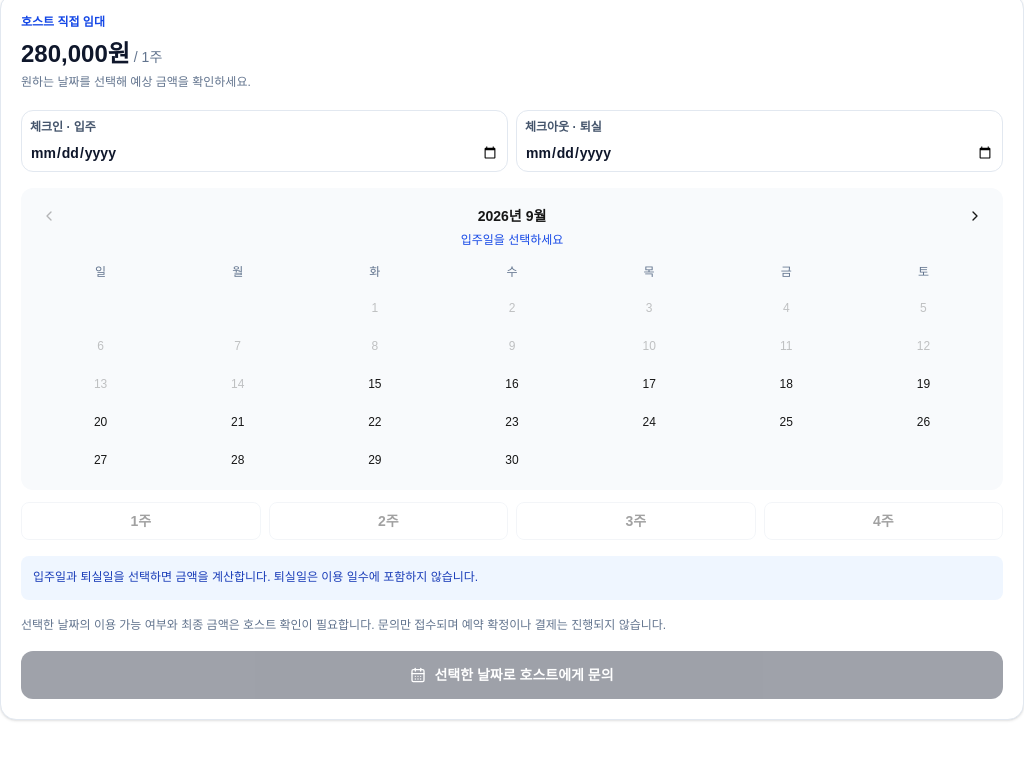
Test: host quote › never mounts a sending inquiry in preview
The image size is (1024, 761).
In the date field labelled "체크인 · 입주": point(264, 153) [30,143,499,163], type "2026-09-20"
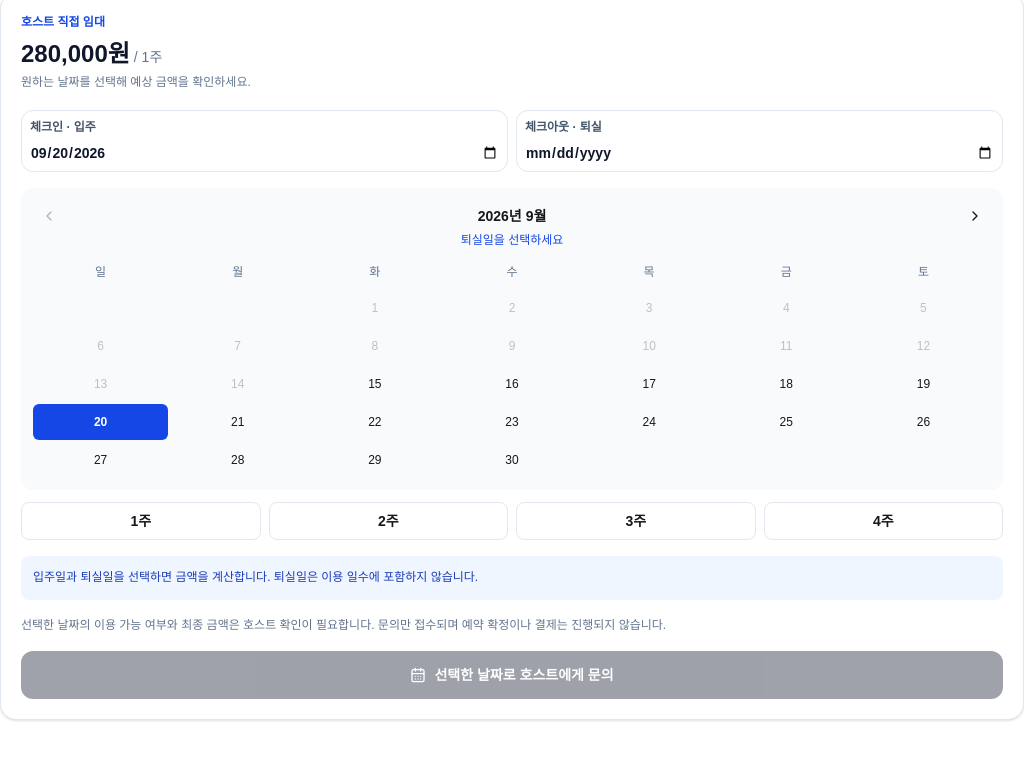
Click the button "1주": point(141, 521) [21,502,260,540]
(page scrolled)
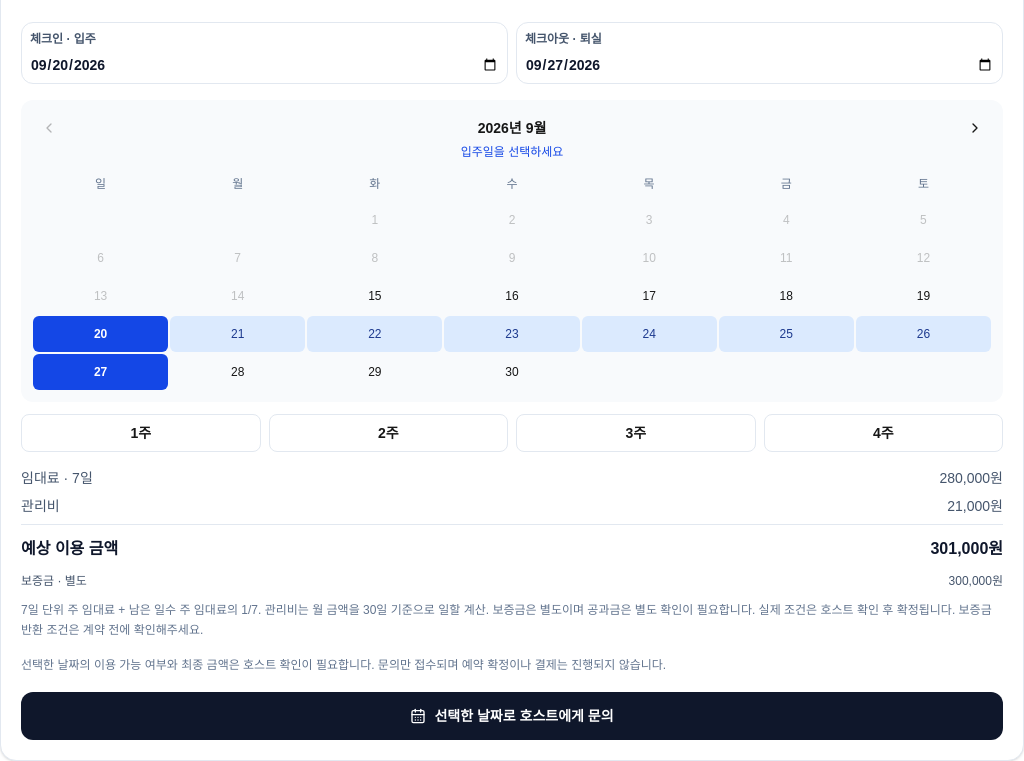
Click the button "선택한 날짜로 호스트에게 문의": point(512, 716) [21,692,1003,740]
(page scrolled)
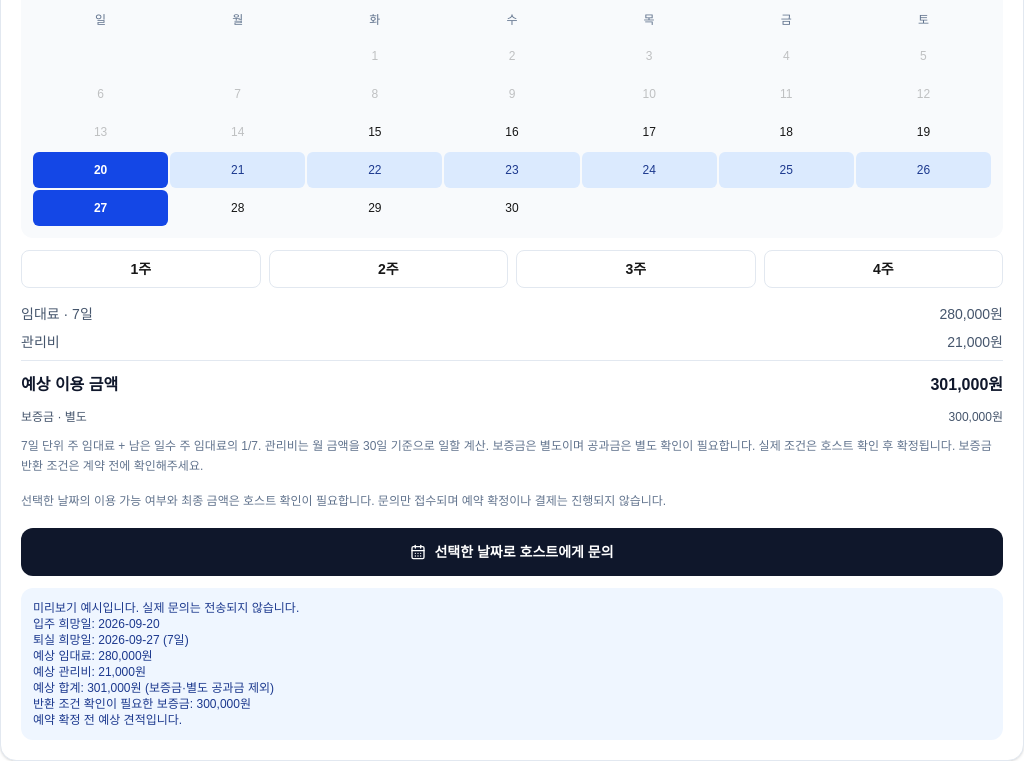
expect the text "실제 문의는 전송되지 않습니다" is shown: met, box [33,600,299,614]
